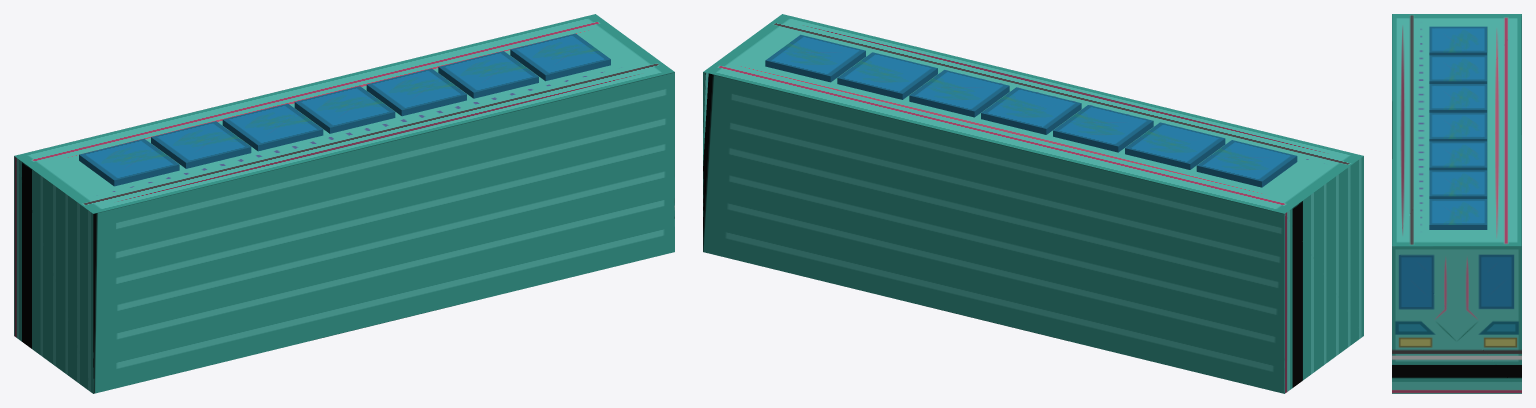
File: train 3.fbx
3 renders of one model, left to right at view 1: azimuth 30°, elevation 25°; view 2: azimuth 150°, elevation 25°; view 3: azimuth 270°, elevation 25°, orthographic. The views are drawn at different scales.
Parts seen in each view (by area): view 1: Cube; view 2: Cube; view 3: Cube.
Part boxes in pixels (x1,y1,x2,y2): Cube: (14,14,674,393); Cube: (703,14,1363,393); Cube: (1392,14,1521,393).
Size of the model in its own units: 534 by 163 by 126.
